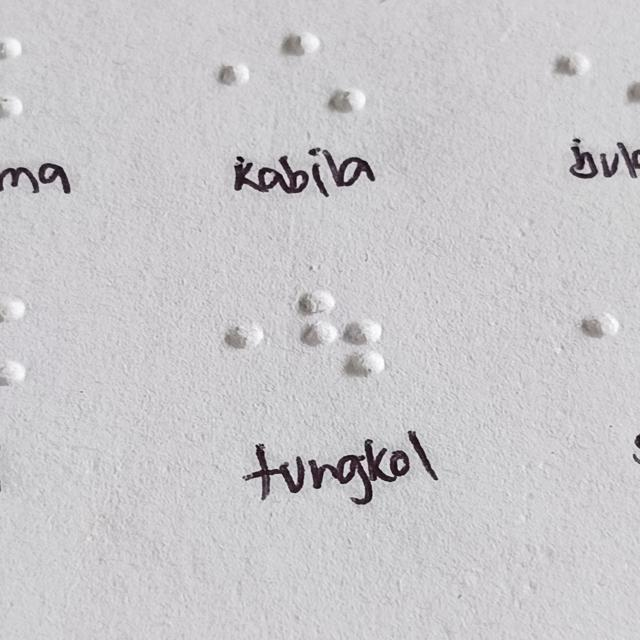dot_5: (182, 288, 265, 379), (174, 31, 252, 118), (512, 21, 590, 108)
kabila: (286, 32, 365, 119)
tungkol: (302, 289, 385, 380)
